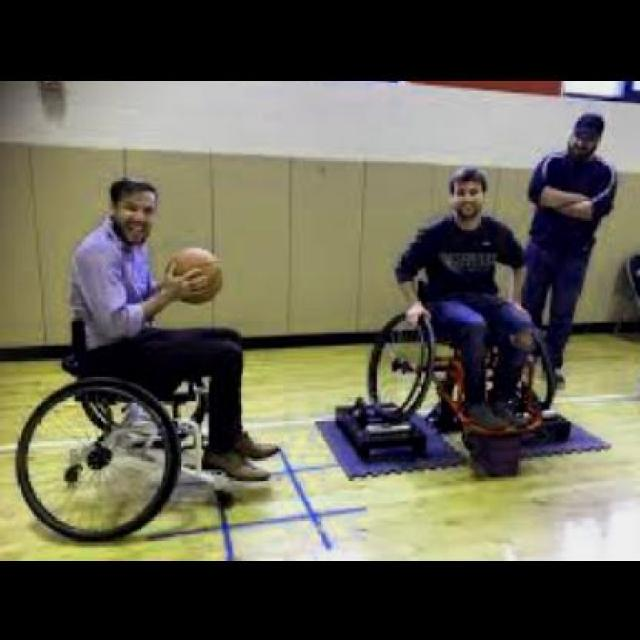wheelchairs: (16, 312, 232, 545), (367, 269, 556, 427)
